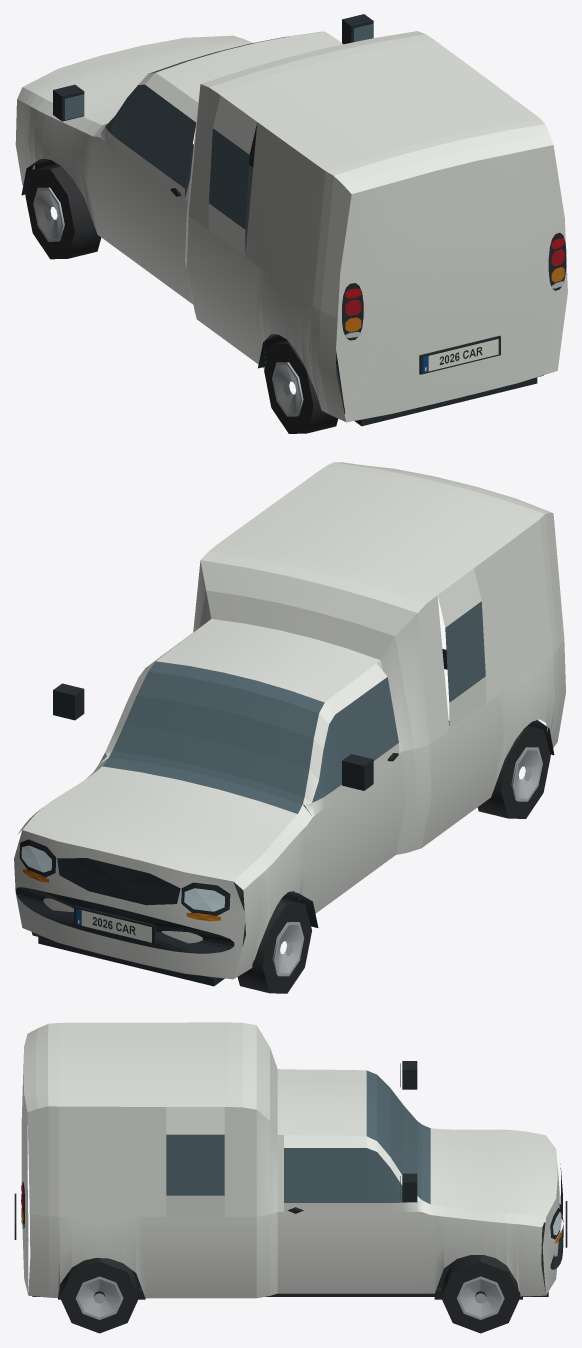
The model's file is Entrega_16_LOD2.glb.
The picture shows the model from 3 angles, top to bottom: view 1: azimuth 30°, elevation 25°; view 2: azimuth 150°, elevation 25°; view 3: azimuth 270°, elevation 25°; orthographic projection. The views are drawn at different scales.
Parts seen in each view (by area): view 1: Body, Glass, Wheel_FL, Wheel_RL, Plates; view 2: Body, Glass, Wheel_FL, Wheel_RL, Headlights, Plates; view 3: Body, Glass, Wheel_FR, Wheel_RR.
Boxes of the visible parts, x1=… form: Body: x1=15, y1=14, x2=567, y2=426; Glass: x1=64, y1=24, x2=373, y2=229; Wheel_FL: x1=25, y1=163, x2=101, y2=259; Wheel_RL: x1=264, y1=340, x2=343, y2=433; Plates: x1=423, y1=339, x2=498, y2=372; Body: x1=14, y1=462, x2=565, y2=986; Glass: x1=103, y1=601, x2=485, y2=813; Wheel_FL: x1=237, y1=898, x2=311, y2=993; Wheel_RL: x1=477, y1=725, x2=550, y2=818; Headlights: x1=21, y1=845, x2=224, y2=911; Plates: x1=76, y1=909, x2=151, y2=942; Body: x1=14, y1=1022, x2=567, y2=1299; Glass: x1=166, y1=1063, x2=430, y2=1204; Wheel_FR: x1=441, y1=1255, x2=520, y2=1333; Wheel_RR: x1=60, y1=1257, x2=139, y2=1333.
Bounding box in the file's own units: 2.06 × 1.8 × 3.98.
Materials: 10 (1 with a texture image).
